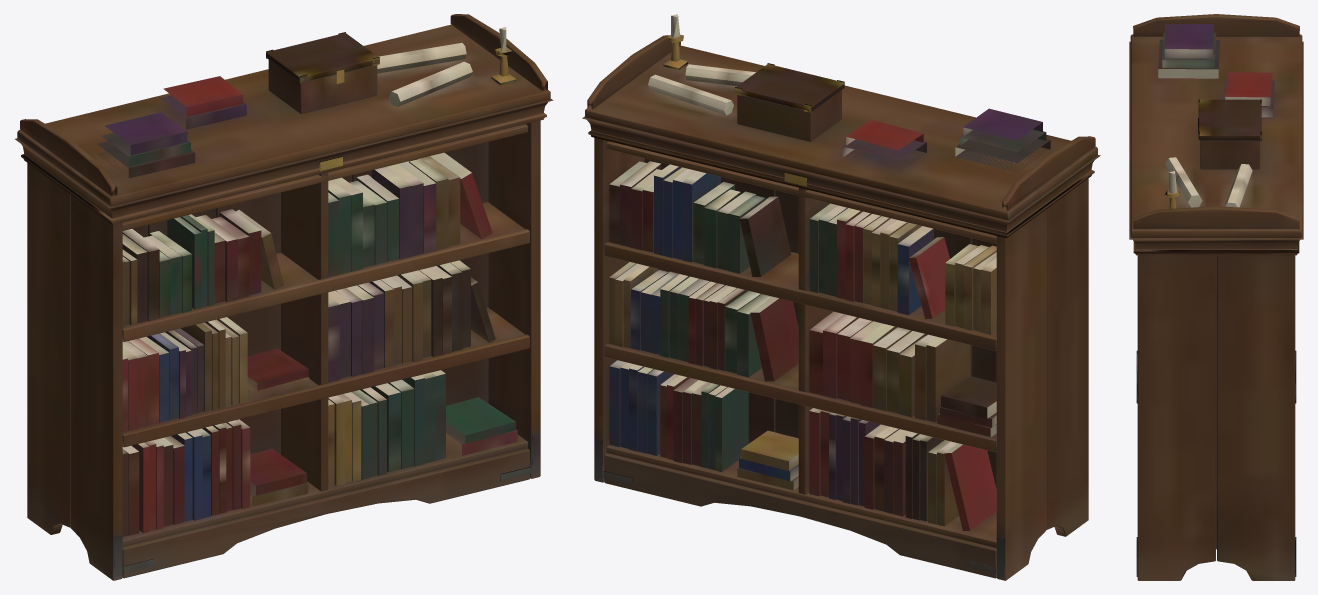
The model's file is bookcase-long.low.glb.
3 renders of one model, left to right at view 1: azimuth 30°, elevation 25°; view 2: azimuth 150°, elevation 25°; view 3: azimuth 270°, elevation 25°, orthographic. The views are drawn at different scales.
Visible parts, largest first — view 1: bookcase-long; view 2: bookcase-long; view 3: bookcase-long.
Part boxes in pixels (box(x1,y1,x2,y2)): bookcase-long: box(15, 14, 553, 580); bookcase-long: box(582, 14, 1100, 580); bookcase-long: box(1129, 14, 1303, 580).
Bounding box in the file's own units: 1.72 × 1.63 × 0.64.
1 material, 1 textured.
